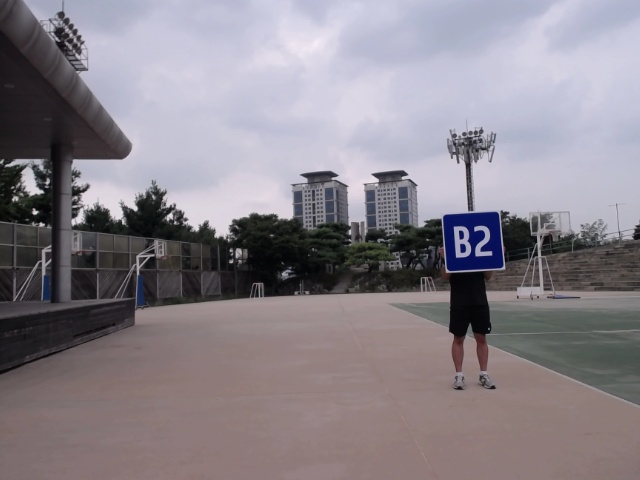delivery_b2: (440, 211, 507, 273)
